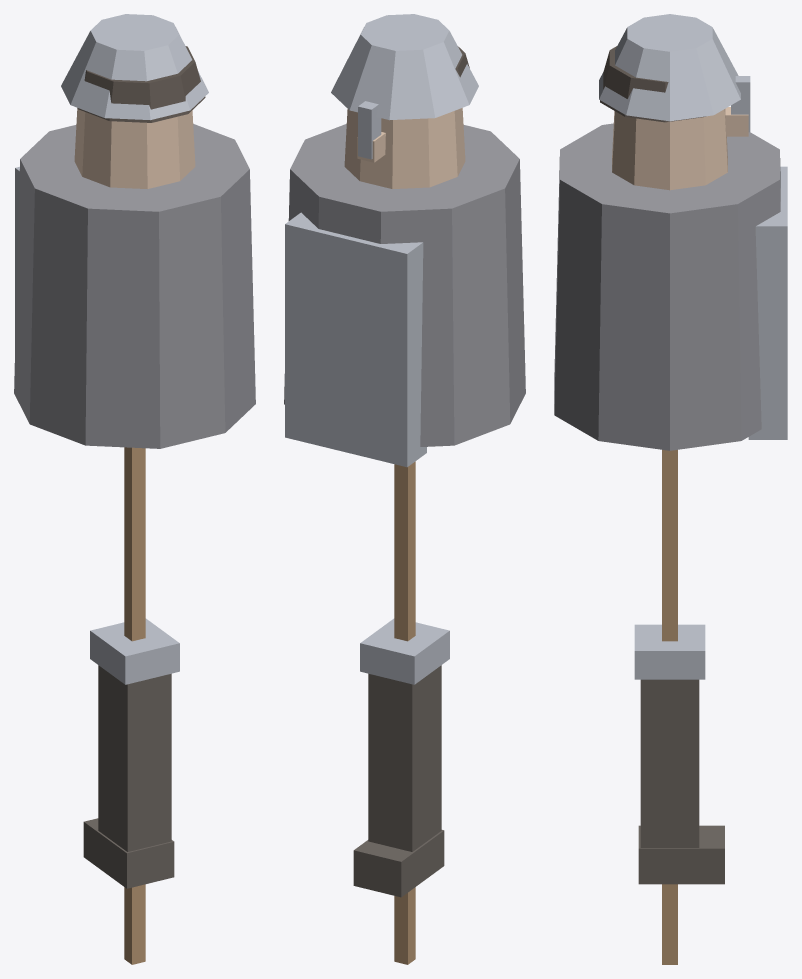
Rendered from npc_halden.glb.
3 renders of one model, left to right at view 1: azimuth 30°, elevation 25°; view 2: azimuth 150°, elevation 25°; view 3: azimuth 270°, elevation 25°, orthographic.
Visible parts, largest first — view 1: Torso, LimbLegL, Helmet, Head, PropSpear, PauldronL, BootL, Hair, Tabard; view 2: Torso, Tabard, LimbLegL, Helmet, Head, PropSpear, PauldronL, BootL, HelmetNasal; view 3: Torso, Helmet, LimbLegL, Head, Tabard, PropSpear, BootL, PauldronL, Hair, HelmetNasal, Nose.
Part boxes in pixels (left/top/right/bottom): Torso: left=14, top=124, right=255, bottom=448; LimbLegL: left=98, top=665, right=171, bottom=851; Helmet: left=61, top=14, right=208, bottom=120; Head: left=74, top=108, right=195, bottom=188; PropSpear: left=124, top=447, right=145, bottom=964; PauldronL: left=90, top=618, right=179, bottom=684; BootL: left=83, top=818, right=174, bottom=888; Hair: left=77, top=46, right=205, bottom=122; Tabard: left=15, top=166, right=19, bottom=349; Torso: left=284, top=124, right=525, bottom=446; Tabard: left=285, top=212, right=426, bottom=467; LimbLegL: left=368, top=665, right=441, bottom=851; Helmet: left=331, top=14, right=478, bottom=120; Head: left=344, top=108, right=465, bottom=188; PropSpear: left=394, top=461, right=415, bottom=964; PauldronL: left=360, top=618, right=449, bottom=684; BootL: left=353, top=830, right=444, bottom=897; HelmetNasal: left=358, top=101, right=381, bottom=159; Torso: left=554, top=123, right=780, bottom=450; Helmet: left=599, top=14, right=740, bottom=121; LimbLegL: left=640, top=679, right=699, bottom=847; Head: left=612, top=109, right=727, bottom=190; Tabard: left=748, top=166, right=787, bottom=439; PropSpear: left=662, top=450, right=677, bottom=964; BootL: left=638, top=825, right=724, bottom=884; PauldronL: left=634, top=624, right=705, bottom=679; Hair: left=600, top=46, right=705, bottom=122; HelmetNasal: left=731, top=76, right=750, bottom=132; Nose: left=725, top=107, right=748, bottom=136.
Bounding box in the file's own units: 0.62 × 2.61 × 0.5948.
